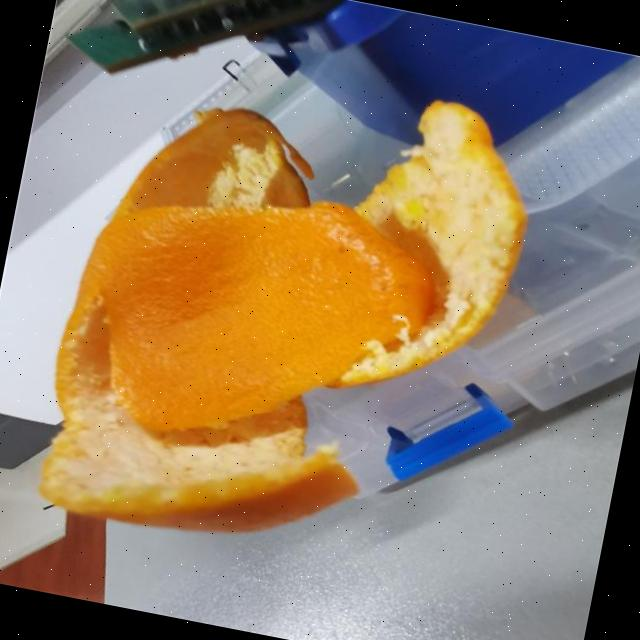orange-peel: (26, 36, 548, 586), (66, 157, 454, 480)
